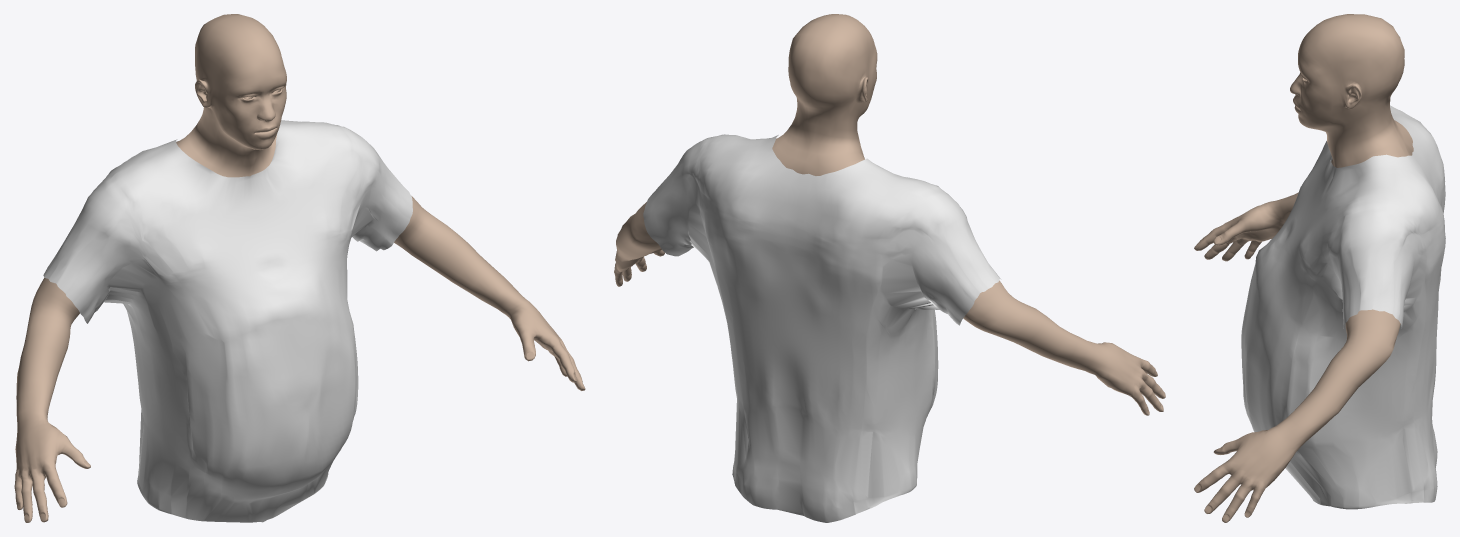
3 renders of one model, left to right at view 1: azimuth 30°, elevation 25°; view 2: azimuth 150°, elevation 25°; view 3: azimuth 270°, elevation 25°, orthographic. The views are drawn at different scales.
Parts seen in each view (by area): view 1: Cube, Base; view 2: Cube, Base; view 3: Cube, Base.
Part boxes in pixels (box(x1,y1,x2,y2)): Cube: box(43, 120, 412, 522); Base: box(14, 14, 585, 522); Cube: box(643, 134, 1001, 522); Base: box(614, 14, 1165, 415); Cube: box(1241, 105, 1445, 509); Base: box(1194, 14, 1413, 522).
Size of the model in its own units: 10.48 by 8.68 by 4.23.
